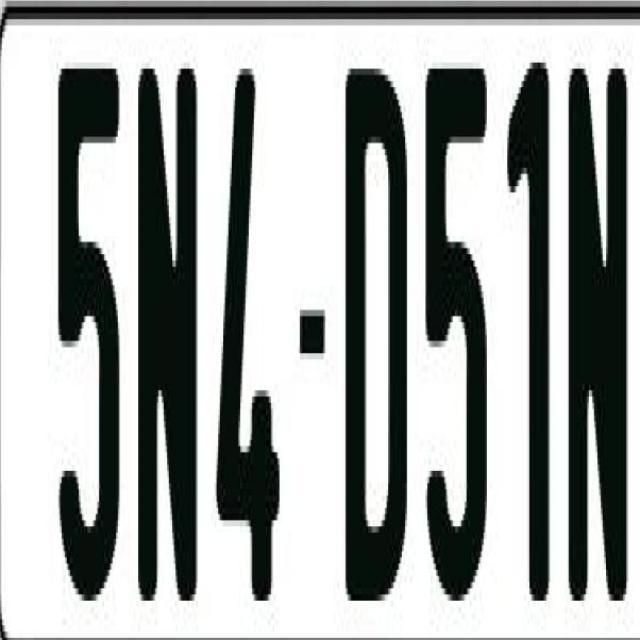license-plate: (0, 1, 640, 640), (532, 639, 593, 640)
